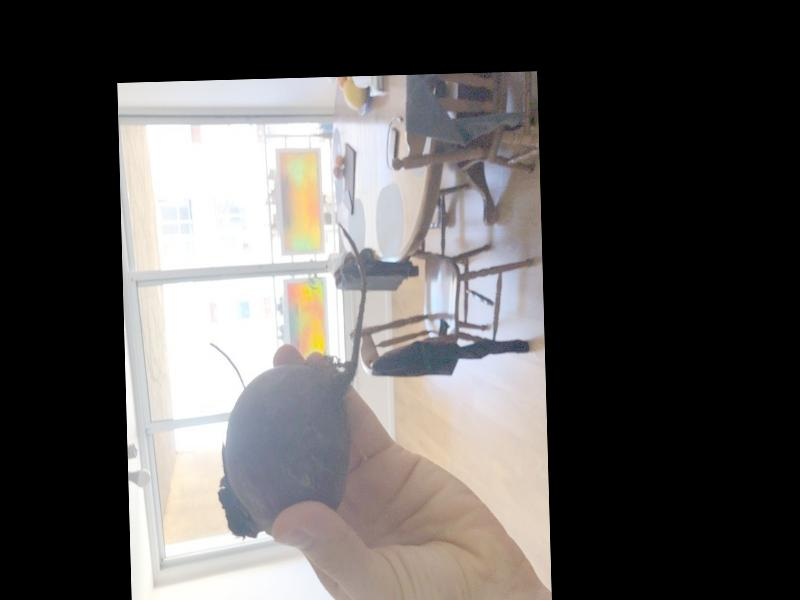Beet: (208, 221, 372, 538)
